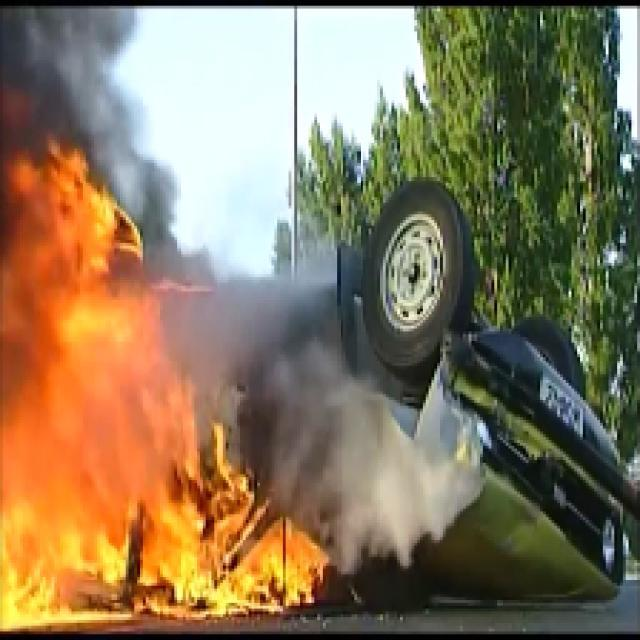Fire: (9, 231, 158, 606), (162, 459, 279, 604)
Smoke: (218, 296, 354, 453), (10, 13, 120, 128)
